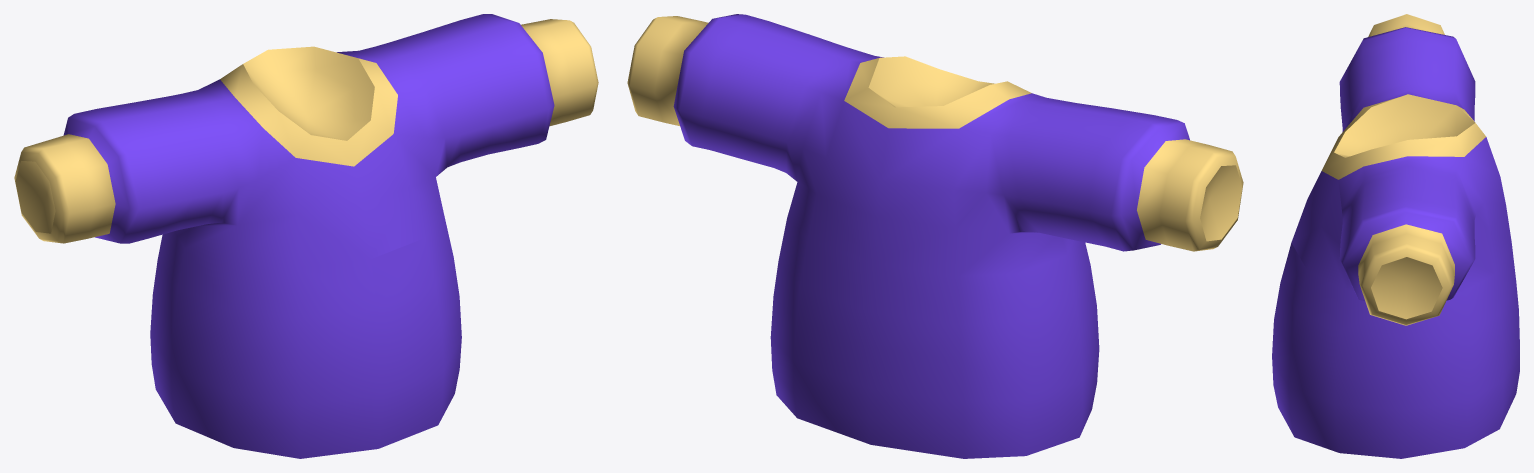
Rendered from Top_14.fbx.
3 renders of one model, left to right at view 1: azimuth 30°, elevation 25°; view 2: azimuth 150°, elevation 25°; view 3: azimuth 270°, elevation 25°, orthographic. The views are drawn at different scales.
Visible parts, largest first — view 1: Top_14; view 2: Top_14; view 3: Top_14.
Boxes of the visible parts, bbox=[...] form: Top_14: bbox=[14, 14, 598, 458]; Top_14: bbox=[627, 14, 1243, 458]; Top_14: bbox=[1272, 14, 1519, 458].
Size of the model in its own units: 80.73 by 46.22 by 35.79.
